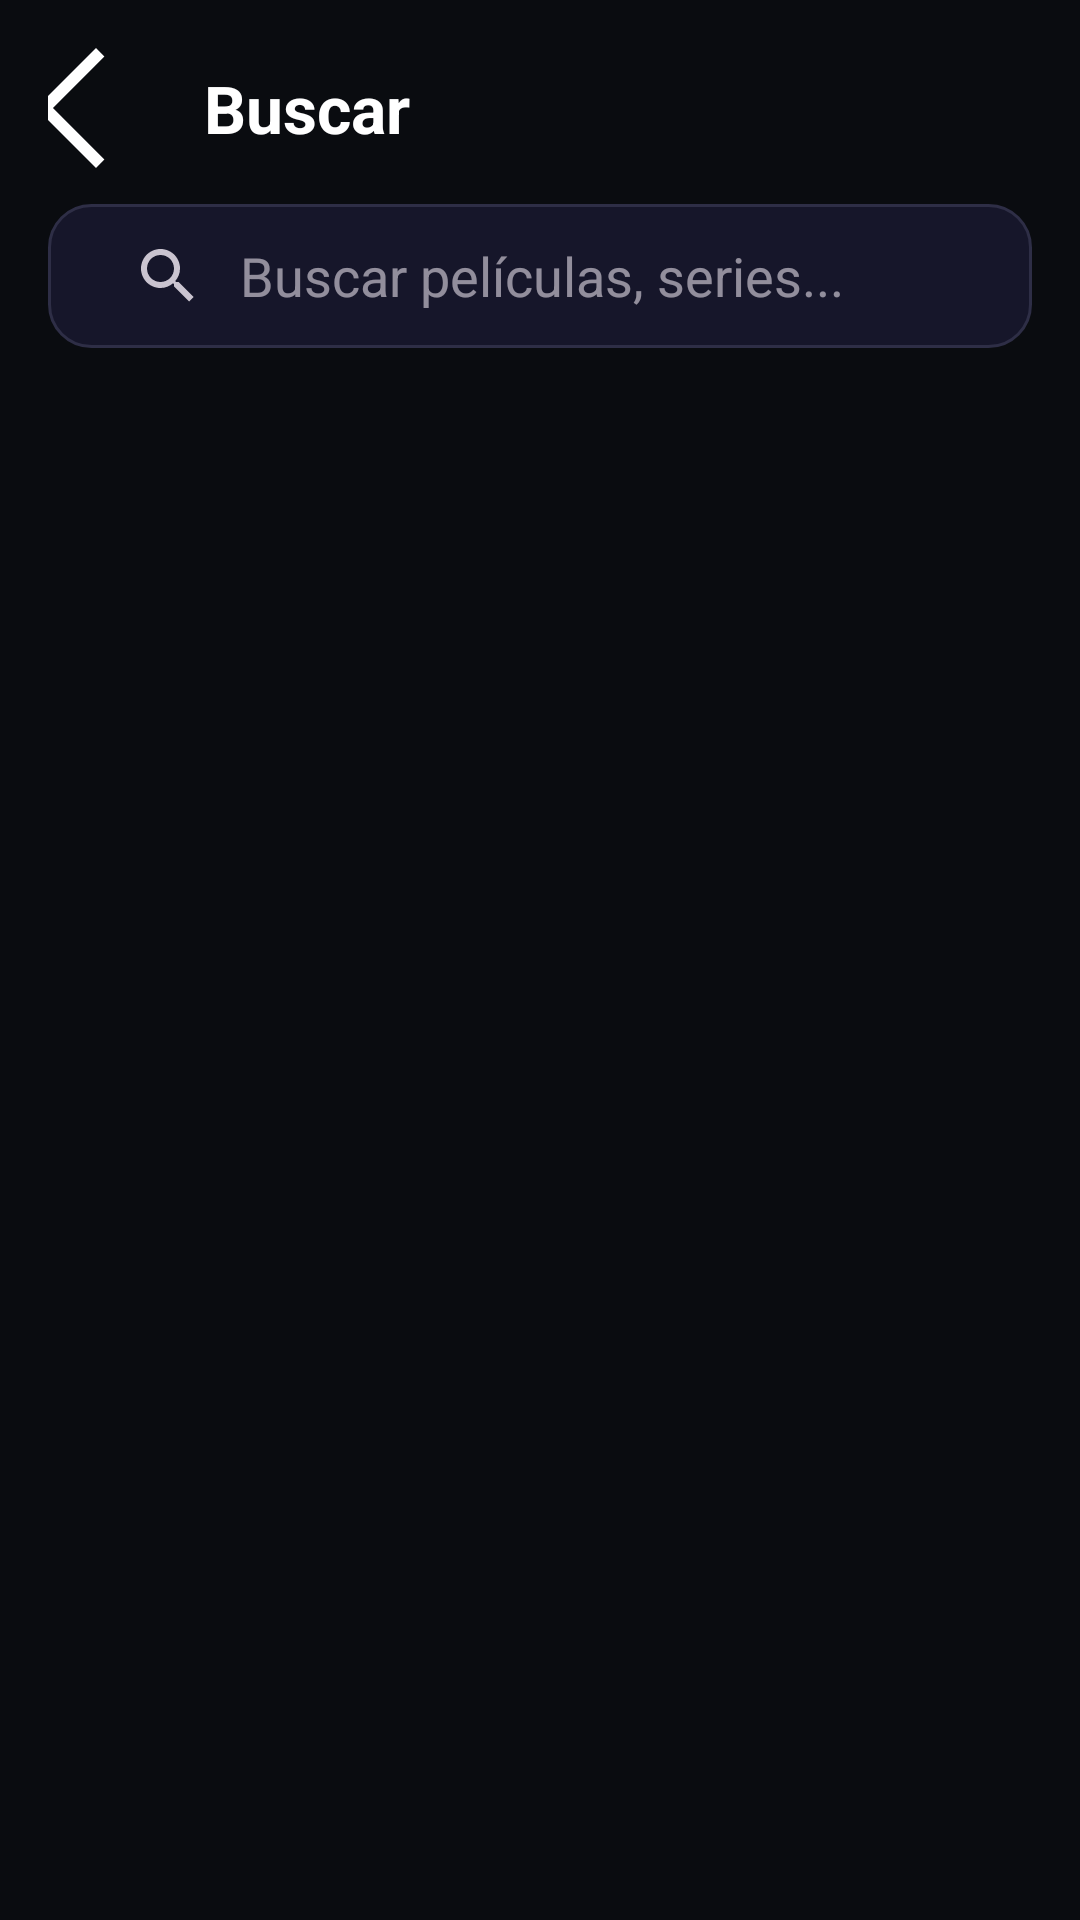

Icons on this 1080 × 1920 Android screen, each with the point to tap as (x=x, y=y):
Regresar: (x=76, y=108)
